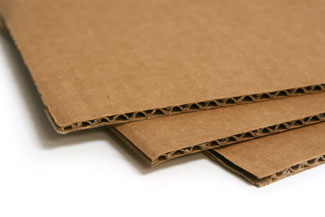Rec_Paper: (2, 1, 320, 184)
